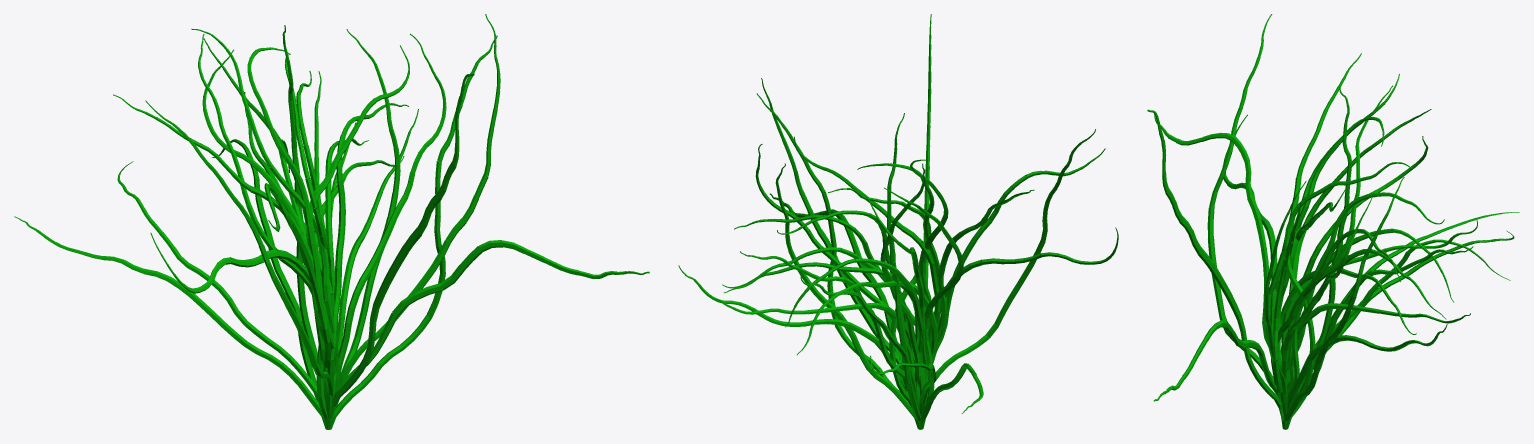
File: Seaweed.fbx
3 views of the same model, side by side, from view 1: azimuth 30°, elevation 25°; view 2: azimuth 150°, elevation 25°; view 3: azimuth 270°, elevation 25° (orthographic). The views are drawn at different scales.
Parts seen in each view (by area): view 1: aq13.obj_7; view 2: aq13.obj_7; view 3: aq13.obj_7.
Boxes of the visible parts, bbox=[...] form: aq13.obj_7: bbox=[14, 14, 649, 429]; aq13.obj_7: bbox=[678, 14, 1118, 429]; aq13.obj_7: bbox=[1147, 14, 1519, 429].
Size of the model in its own units: 69.75 by 59.32 by 57.59.
